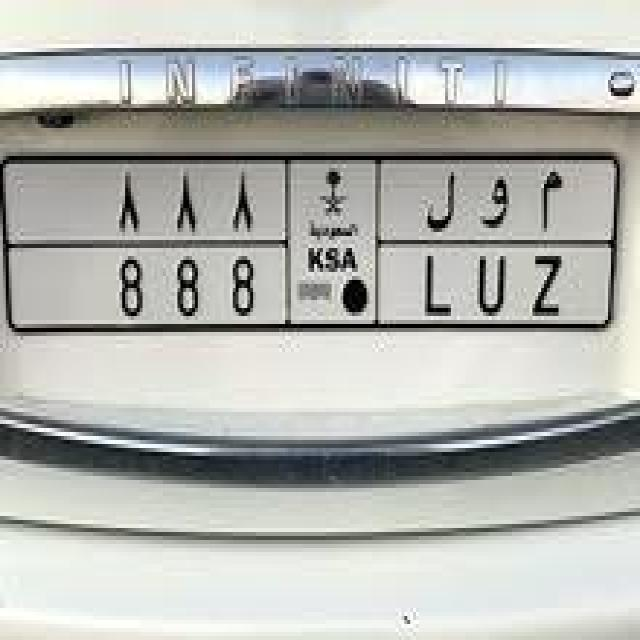license_plate: (6, 150, 624, 340)
